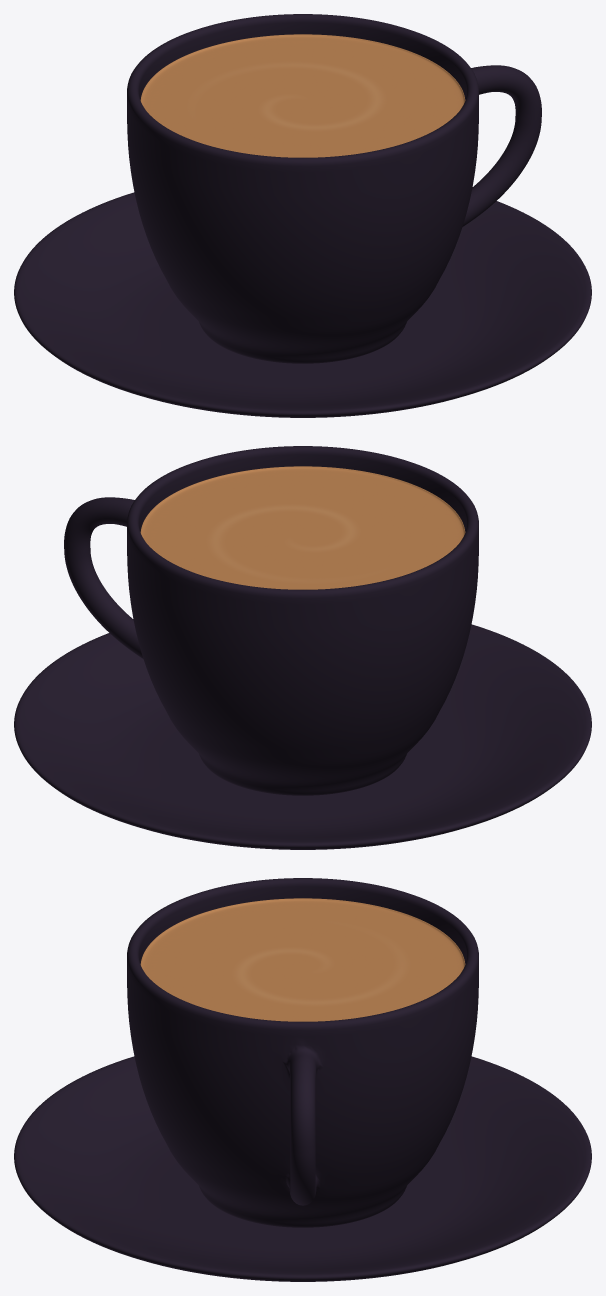
The model's file is exclusive-tea.obj.
3 views of the same model, one above another, from view 1: azimuth 30°, elevation 25°; view 2: azimuth 150°, elevation 25°; view 3: azimuth 270°, elevation 25° (orthographic).
Parts seen in each view (by area): view 1: Cup, Saucer, Tea; view 2: Cup, Saucer, Tea; view 3: Cup, Saucer, Tea.
Part boxes in pixels (box(x1,y1,x2,y2)): Cup: box(127, 14, 541, 363); Saucer: box(14, 192, 591, 417); Tea: box(140, 34, 465, 157); Cup: box(64, 446, 478, 795); Saucer: box(14, 624, 591, 849); Tea: box(140, 466, 465, 589); Cup: box(127, 878, 478, 1227); Saucer: box(14, 1056, 591, 1281); Tea: box(140, 898, 465, 1021).
Size of the model in its own units: 0.1641 by 0.0777 by 0.1641.
Materials: 2 (1 with a texture image).
